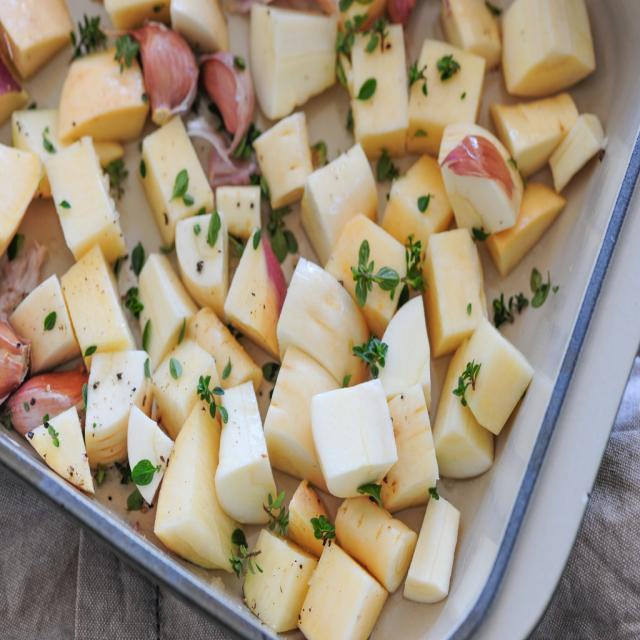Potato: (248, 6, 337, 117)
